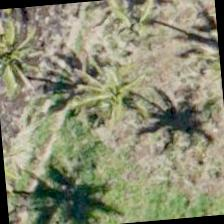Kelapa_Sawit: (77, 52, 175, 150), (0, 6, 47, 95)
